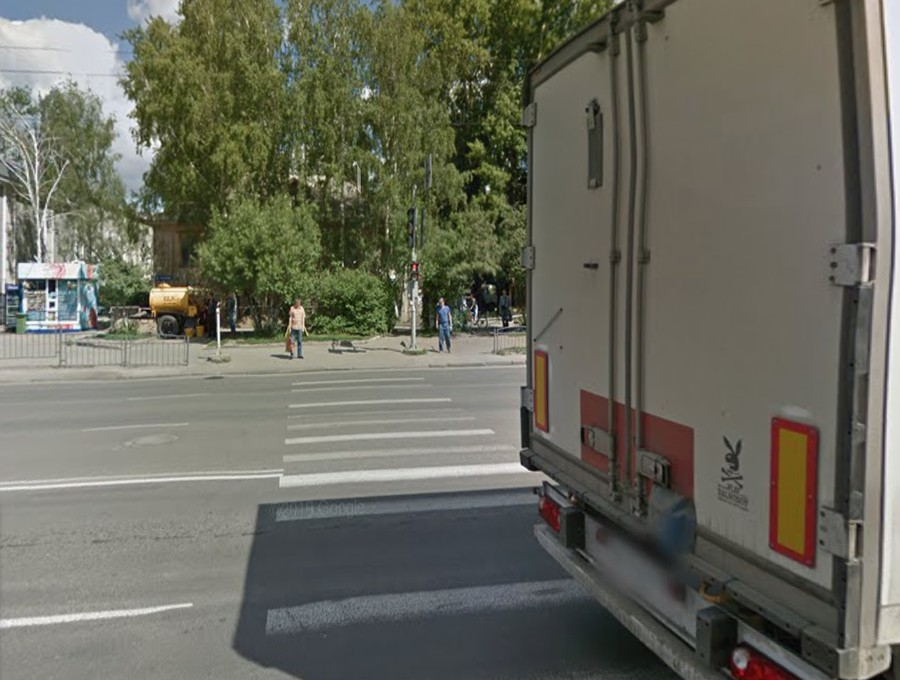Traffic Light-red: (410, 262, 420, 283)
